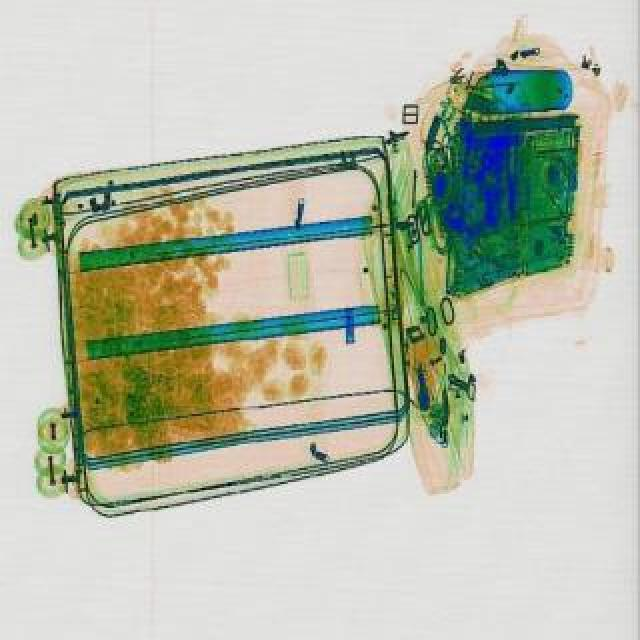wrench: (508, 138, 520, 224)
